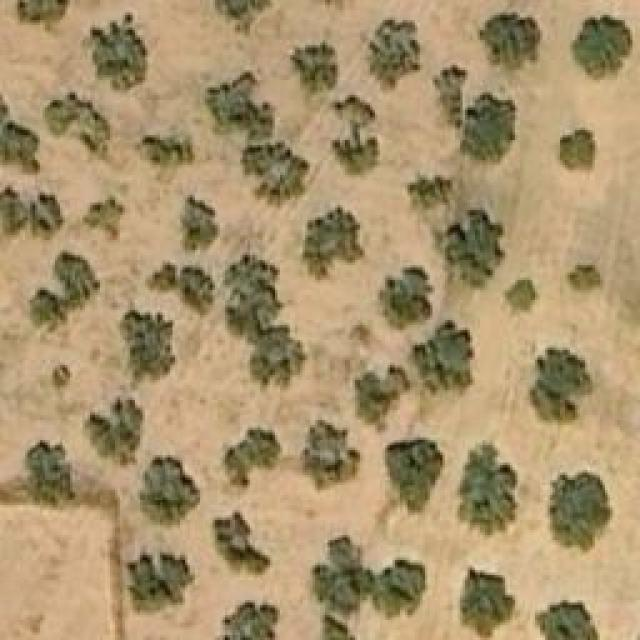Tree: (455, 445, 518, 535), (80, 13, 148, 93), (547, 473, 615, 553), (445, 210, 505, 295), (30, 250, 93, 330), (413, 320, 478, 395), (223, 252, 278, 340), (303, 208, 366, 281), (210, 70, 273, 143), (123, 303, 176, 388), (530, 350, 593, 420), (138, 455, 201, 523), (83, 397, 143, 465), (462, 567, 517, 640), (570, 15, 633, 78), (330, 98, 383, 171), (355, 363, 410, 433), (305, 420, 360, 490), (368, 20, 423, 90), (128, 552, 193, 610), (240, 145, 305, 203), (388, 440, 441, 510), (478, 12, 541, 70), (48, 92, 111, 150), (212, 513, 270, 573), (225, 425, 280, 488), (317, 540, 365, 610), (380, 268, 433, 331), (460, 95, 510, 160), (250, 328, 305, 383), (215, 597, 282, 640), (290, 40, 338, 98), (534, 597, 597, 640), (25, 443, 70, 503), (180, 195, 218, 253), (375, 565, 420, 613), (0, 123, 40, 176), (215, 0, 270, 38), (83, 198, 126, 243), (143, 135, 196, 165), (30, 195, 65, 240), (178, 268, 211, 311), (0, 185, 28, 233), (560, 130, 595, 168), (503, 280, 538, 315), (408, 175, 448, 205), (17, 0, 67, 22), (148, 260, 178, 290), (568, 265, 603, 290), (305, 622, 345, 640), (50, 360, 73, 385)
